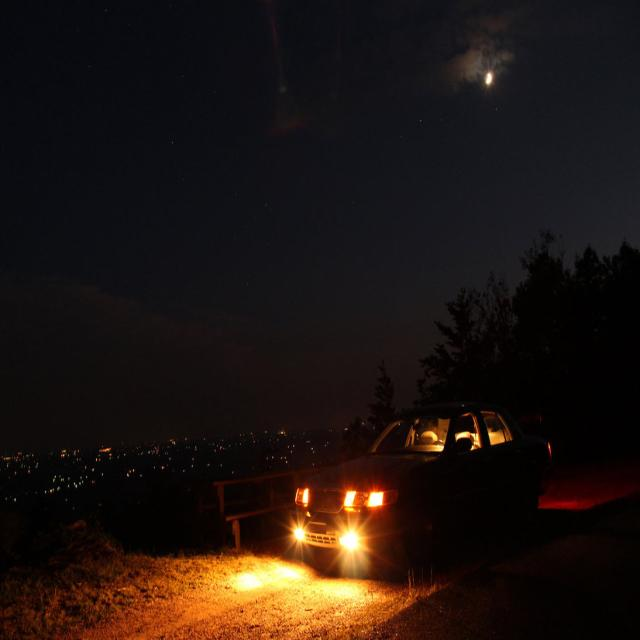Car: (258, 358, 550, 597)
